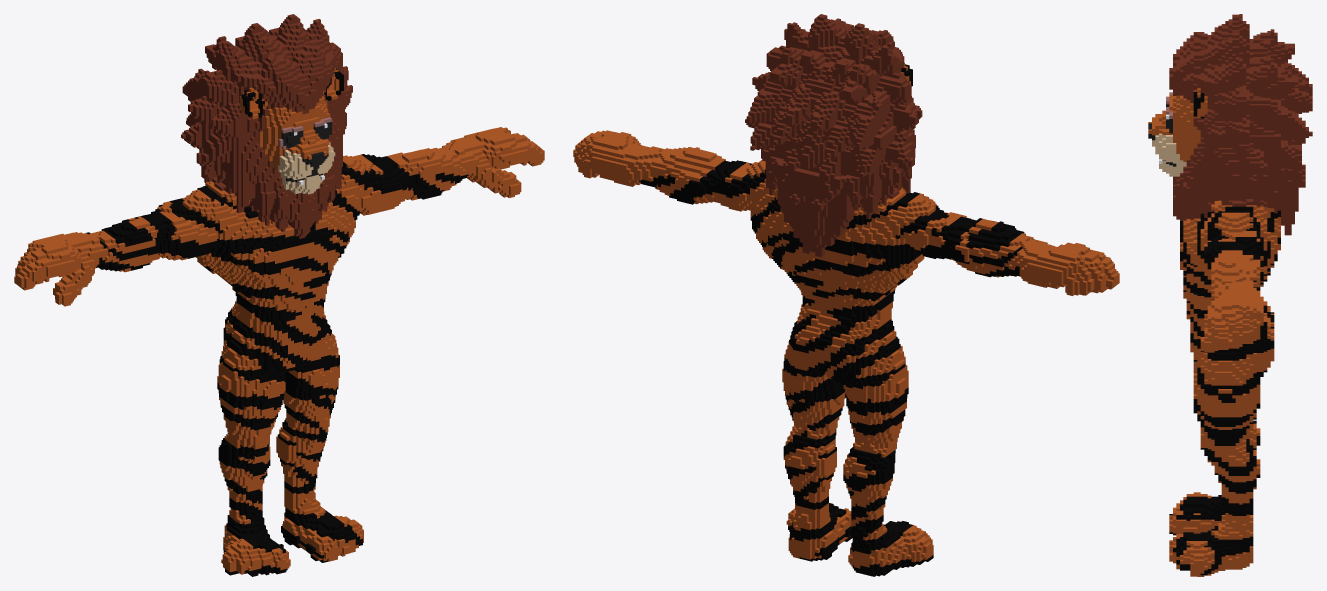
The model's file is 743-CAZxp_n5.glb.
3 renders of one model, left to right at view 1: azimuth 30°, elevation 25°; view 2: azimuth 150°, elevation 25°; view 3: azimuth 270°, elevation 25°, orthographic. The views are drawn at different scales.
Visible parts, largest first — view 1: standard; view 2: standard; view 3: standard.
Part boxes in pixels (bbox=[...]): standard: bbox=[14, 14, 544, 576]; standard: bbox=[573, 14, 1119, 576]; standard: bbox=[1148, 14, 1312, 576].
Size of the model in its own units: 17.2 by 16.5 by 4.7.
4 materials, 4 textured.
